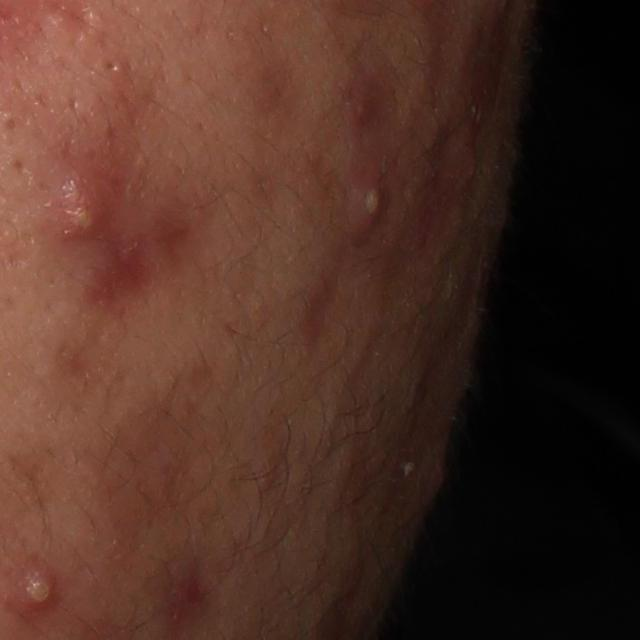pustule: (52, 176, 108, 239), (353, 168, 384, 246), (13, 569, 59, 615)
